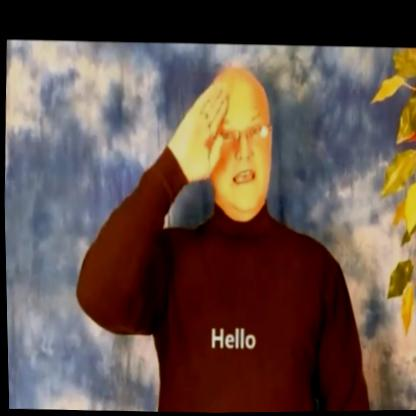Hello: (133, 56, 294, 254)
